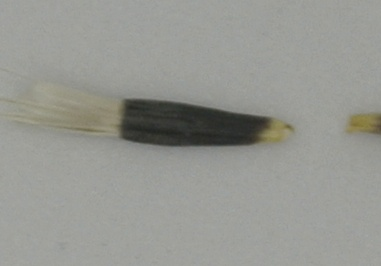เมล็ดดีติดกัน: (1, 66, 297, 147)
